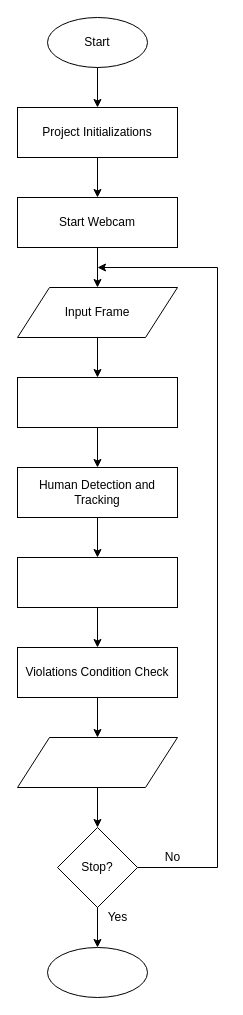
Some shapes in this 243 by 1015 pixel diagram are drawn without their labels. Here are the shapes that lost their labels. From the top down, the box of each, then its label:
(16, 376, 178, 428): Preprocess Frame
(16, 556, 178, 608): Centroid and Distance Calculation
(16, 736, 178, 788): Output Frame
(46, 946, 148, 998): Stop
